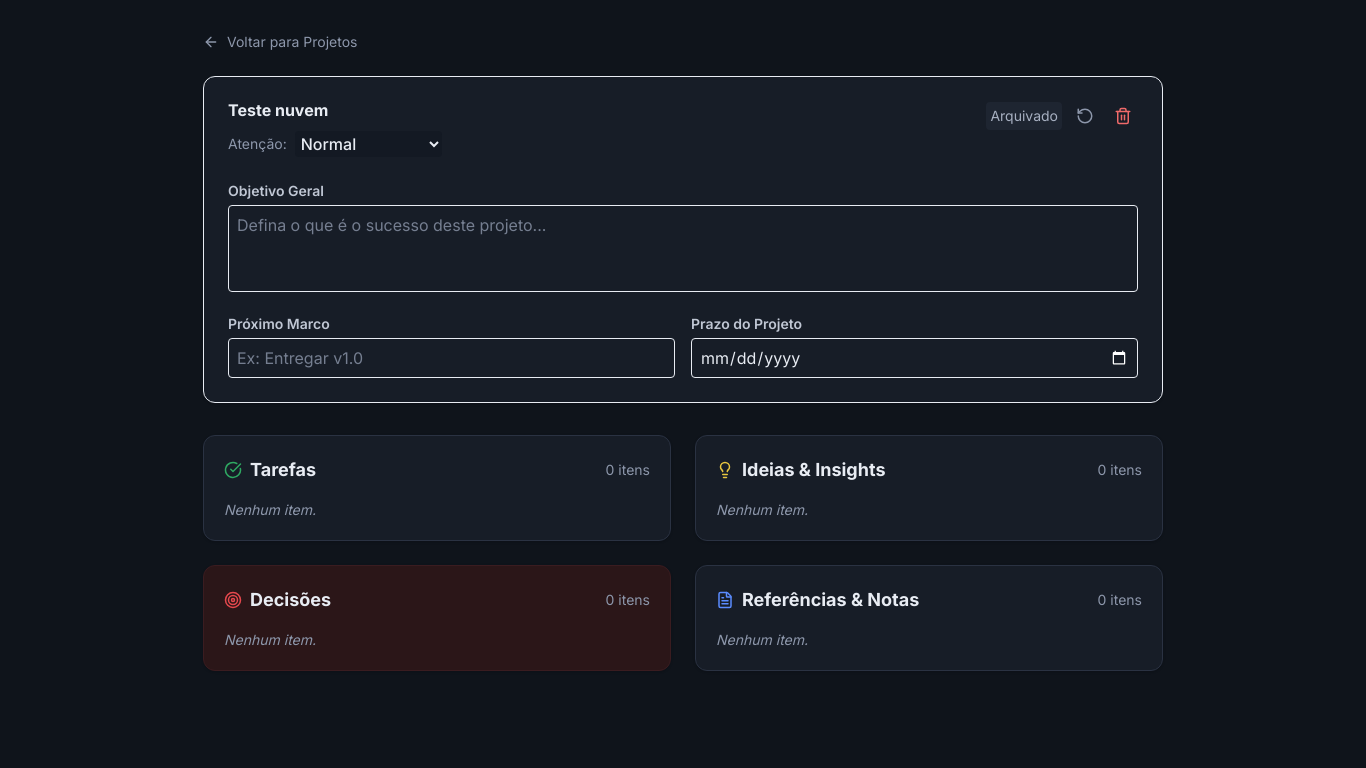
/projetos/[projectId] — ações de ciclo de vida › diálogo de exclusão só habilita o botão final quando o nome digitado bate exatamente
Expected: the field named "Nome do Projeto" holds "Teste nuvem", [228, 101, 970, 121]
Click the button named "Excluir projeto permanentemente". click: [1123, 116]
box: [1108, 101, 1138, 131]
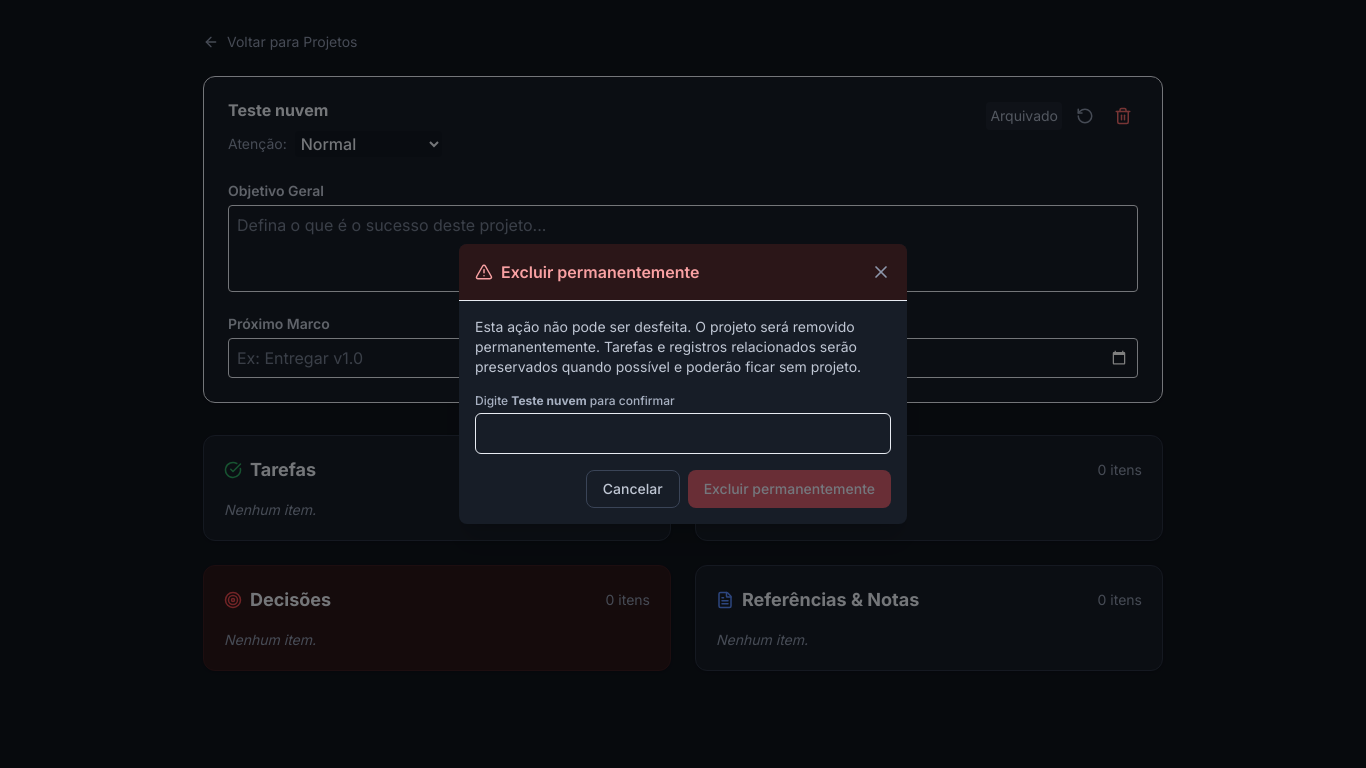
Expected: the button "Excluir permanentemente" is disabled, [688, 470, 891, 508]
Type "nome errado" into the field labelled "Digite Teste nuvem para confirmar". click: [683, 434]
box: [475, 413, 891, 454]
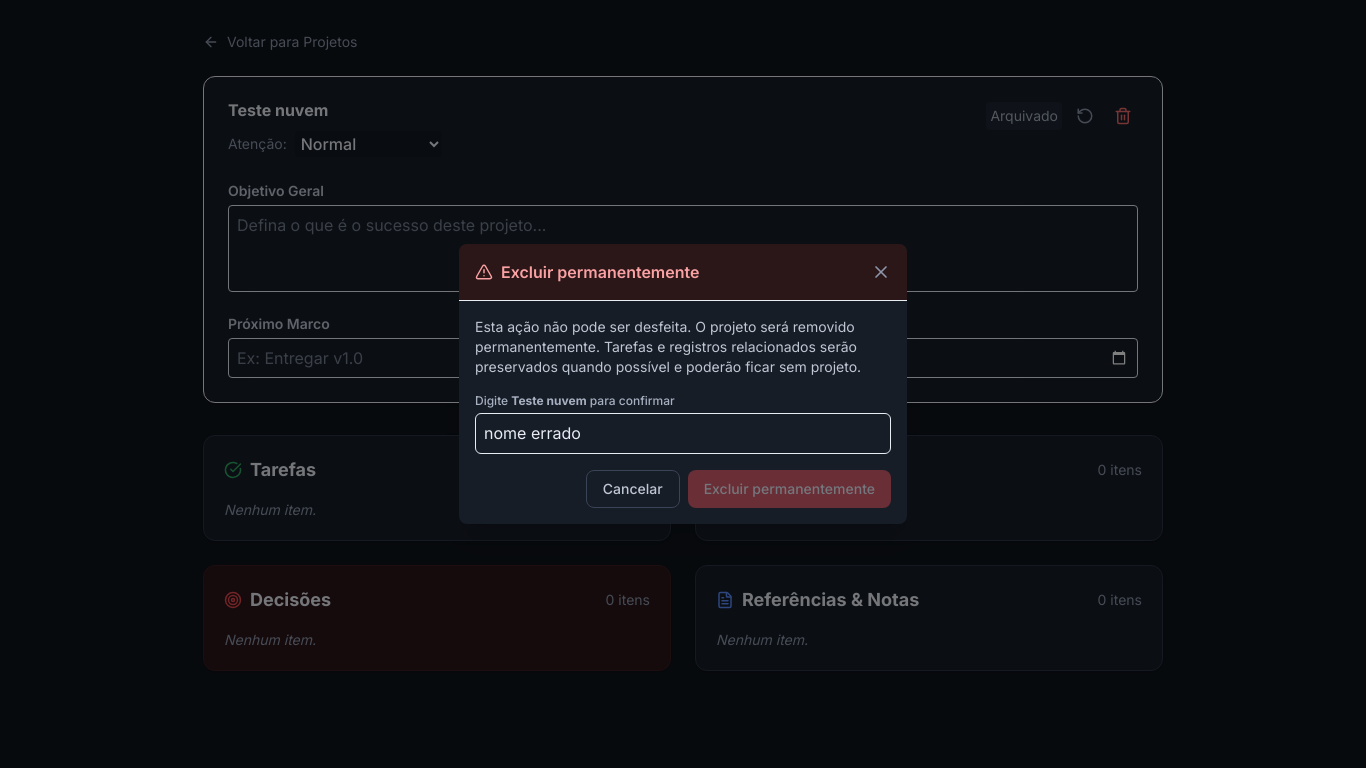
Expected: the button "Excluir permanentemente" is disabled, [688, 470, 891, 508]
Replace the text in the field labelled "Digite Teste nuvem para confirmar" with "Teste nuvem". click: [683, 434]
box: [475, 413, 891, 454]
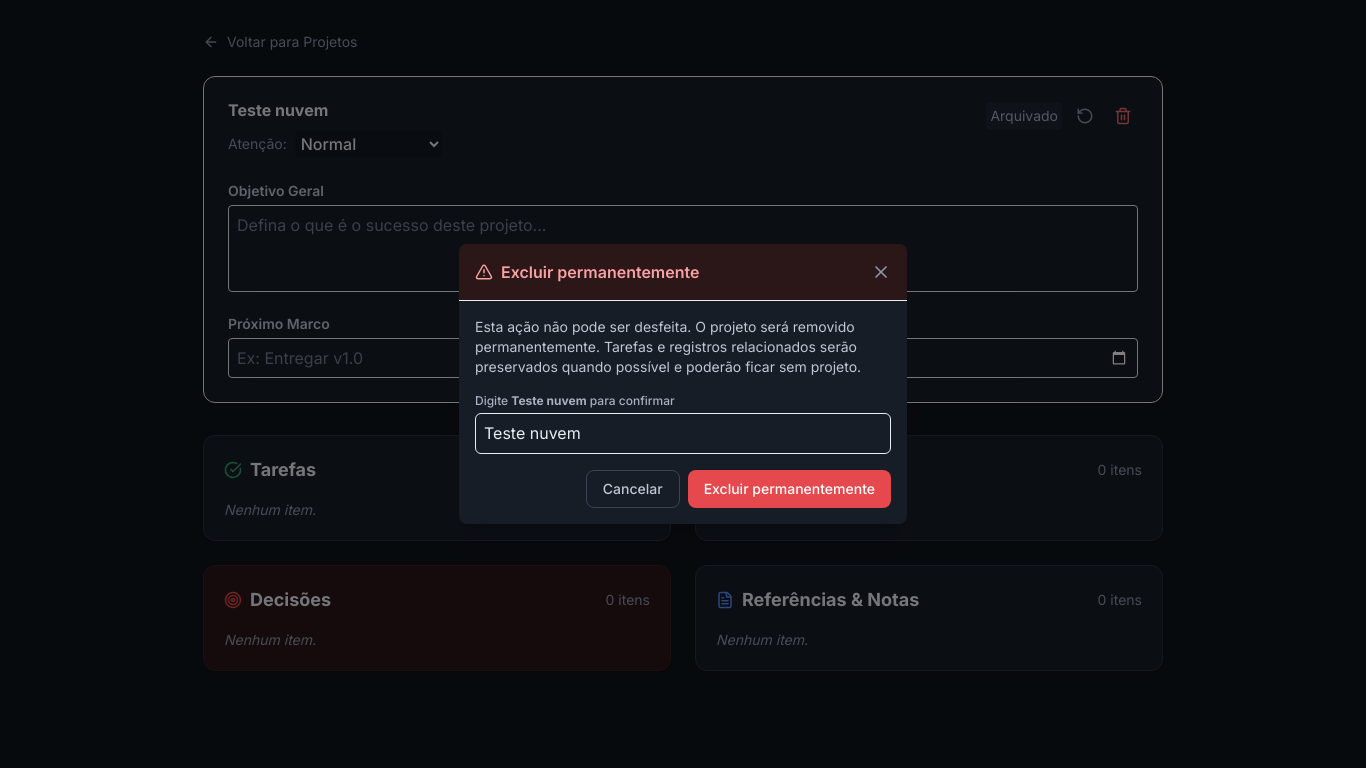
Expected: the button "Excluir permanentemente" is enabled, [688, 470, 891, 508]
